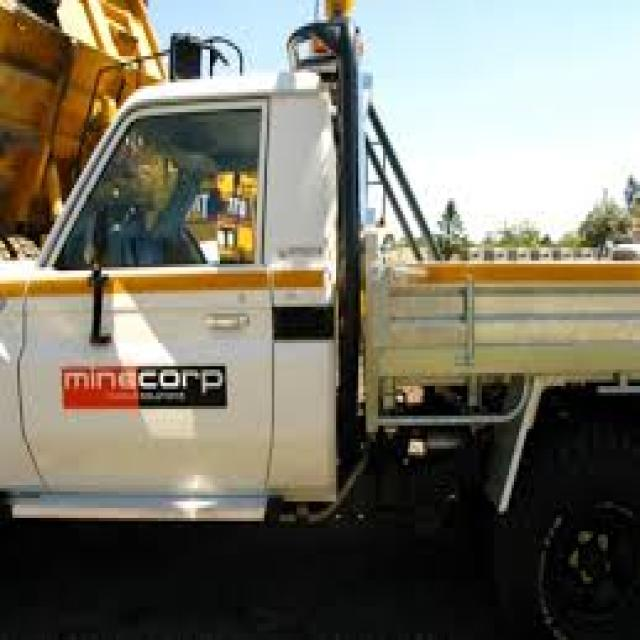light_vehicle: (8, 33, 638, 584)
